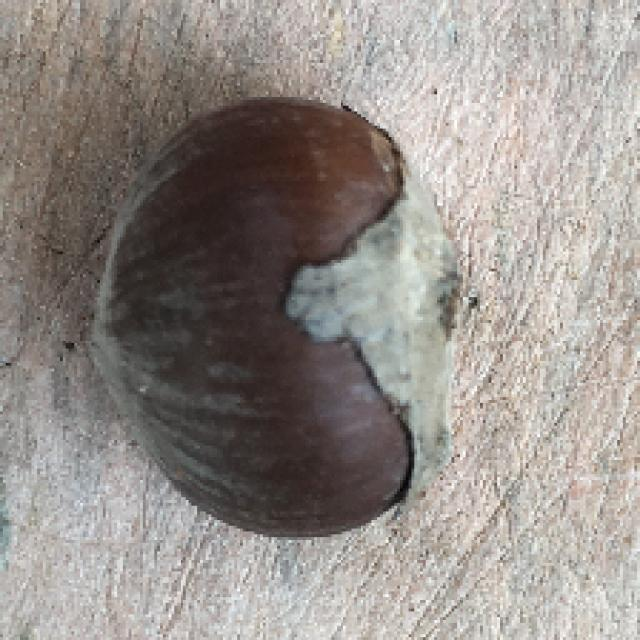damagedHazelnut: (86, 90, 475, 548)
